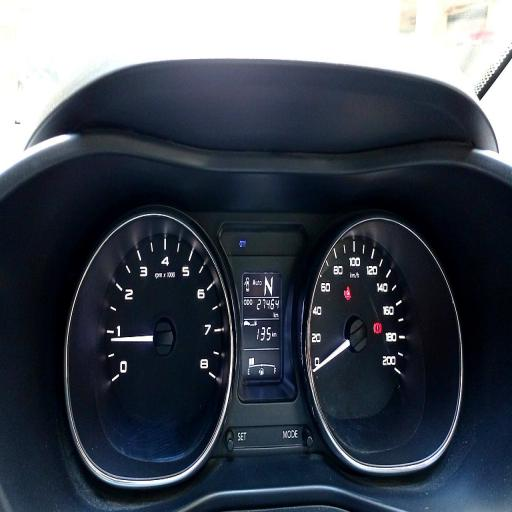belt: (344, 285, 351, 301)
brake_system_fault: (374, 322, 382, 334)
tachometer: (66, 212, 234, 486)
